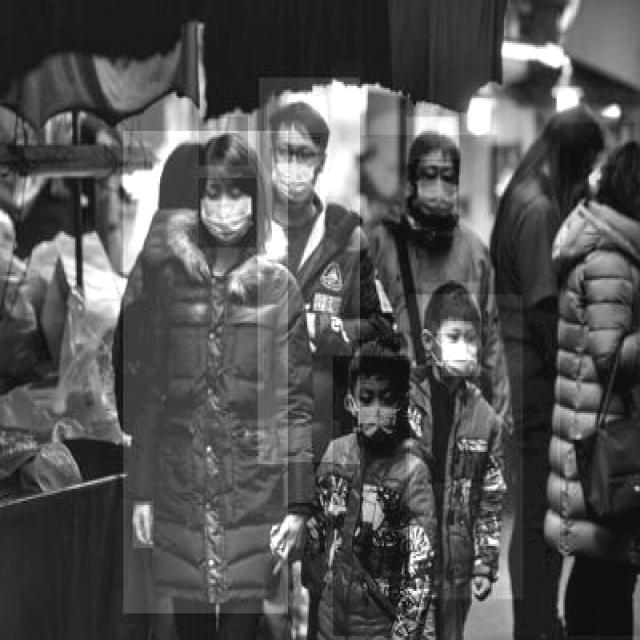face_mask: (198, 178, 256, 247), (272, 137, 320, 207), (413, 159, 459, 229), (355, 378, 402, 444), (442, 321, 482, 376)
glasses: (272, 143, 318, 166)
hand_noglove: (264, 505, 309, 564), (131, 501, 154, 550), (467, 573, 493, 601)
head_nohelmet: (422, 282, 482, 333), (405, 116, 459, 166), (197, 116, 248, 168), (266, 96, 328, 135), (350, 340, 400, 380)
person: (122, 131, 288, 615), (358, 135, 498, 483), (558, 123, 640, 638), (258, 78, 360, 464), (504, 108, 574, 638), (406, 295, 524, 601), (331, 356, 410, 638)
